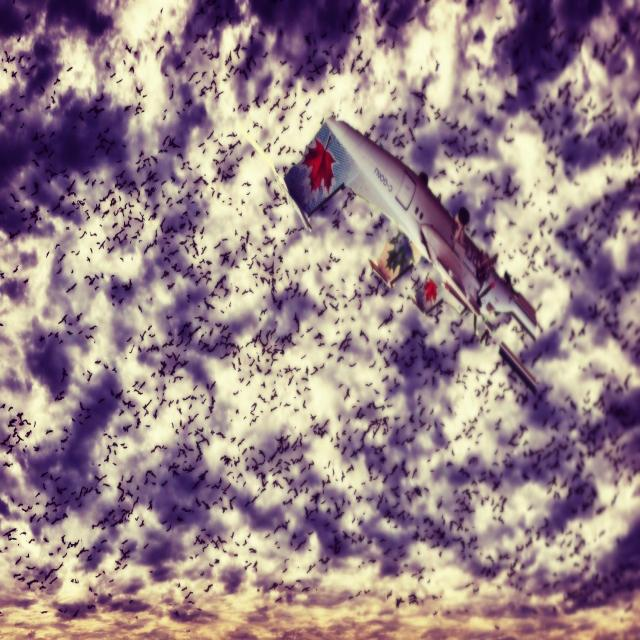airplane: (282, 114, 540, 394)
